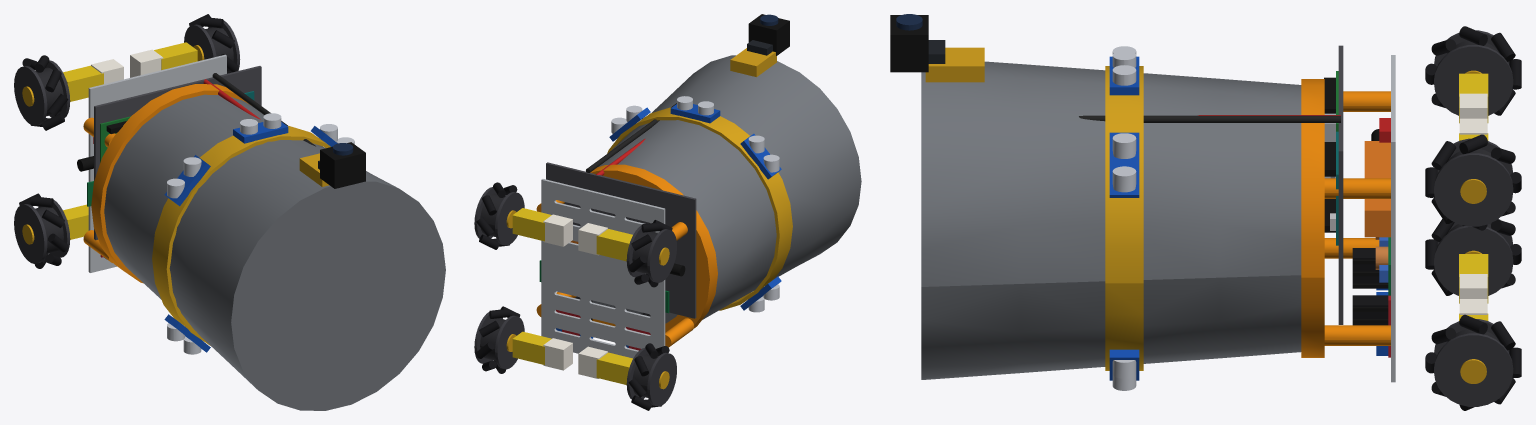
File: .fetch_v2_hd.step.glb
3 views of the same model, side by side, from view 1: azimuth 30°, elevation 25°; view 2: azimuth 150°, elevation 25°; view 3: azimuth 270°, elevation 25° (orthographic). The views are drawn at different scales.
Parts seen in each view (by area): view 1: o1.101, o1.102, o1.1, o1.100, o1.84, o1.121, o1.17, o1.3, o1.28, o1.56, o1.57, o1.14 (+10 smaller); view 2: o1.101, o1.1, o1.84, o1.102, o1.100, o1.17, o1.3, o1.121, o1.56, o1.42, o1.31, o1.45 (+15 smaller); view 3: o1.101, o1.102, o1.100, o1.46, o1.32, o1.18, o1.4, o1.81, o1.121, o1.118, o1.124, o1.84 (+15 smaller).
Boxes of the visible parts, <box> form: o1.101: <box>104,94,445,410</box>; o1.102: <box>152,126,330,345</box>; o1.1: <box>88,54,226,272</box>; o1.100: <box>91,84,249,283</box>; o1.84: <box>94,66,261,240</box>; o1.121: <box>320,142,365,188</box>; o1.17: <box>14,66,47,125</box>; o1.3: <box>14,204,47,263</box>; o1.28: <box>63,65,103,101</box>; o1.56: <box>154,42,197,69</box>; o1.57: <box>130,49,163,77</box>; o1.14: <box>63,204,88,239</box>; o1.101: <box>591,55,861,323</box>; o1.1: <box>541,179,665,358</box>; o1.84: <box>546,162,696,318</box>; o1.102: <box>607,107,792,310</box>; o1.100: <box>571,164,717,332</box>; o1.17: <box>647,229,676,282</box>; o1.3: <box>647,352,676,406</box>; o1.121: <box>748,14,789,55</box>; o1.56: <box>512,208,551,241</box>; o1.42: <box>512,331,551,364</box>; o1.31: <box>495,315,524,369</box>; o1.45: <box>495,192,524,245</box>; o1.101: <box>921,61,1301,379</box>; o1.102: <box>1105,66,1143,370</box>; o1.100: <box>1301,79,1324,357</box>; o1.46: <box>1434,153,1513,226</box>; o1.32: <box>1434,333,1513,406</box>; o1.18: <box>1434,45,1513,115</box>; o1.4: <box>1434,226,1513,295</box>; o1.81: <box>1364,141,1390,237</box>; o1.121: <box>890,15,928,72</box>; o1.118: <box>925,47,984,82</box>; o1.124: <box>1079,115,1340,122</box>; o1.84: <box>1338,45,1343,324</box>.
Bounding box in the file's own units: 0.22 × 0.2582 × 0.4287.
